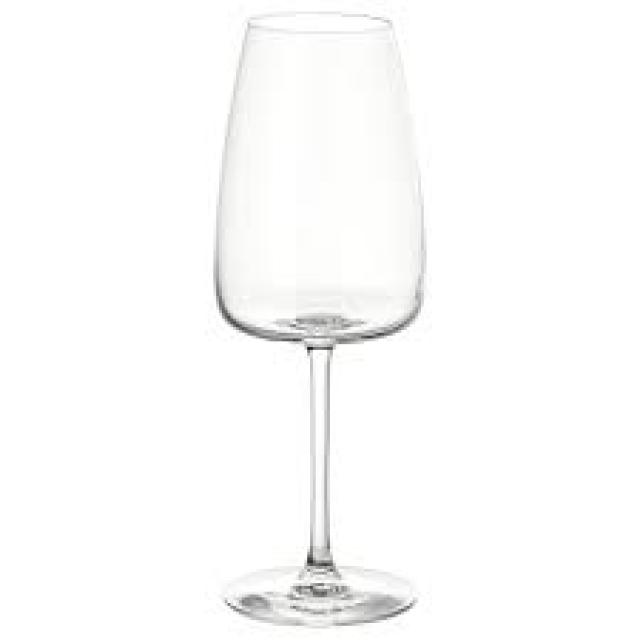glass: (216, 11, 418, 623)
